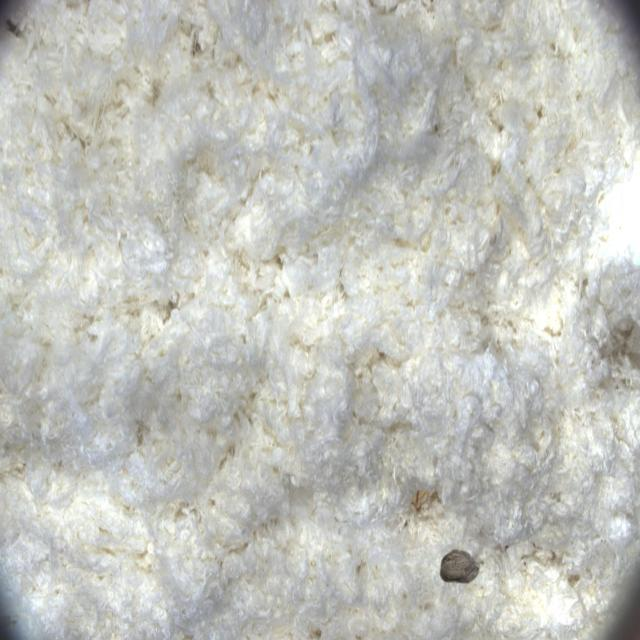dust: (420, 493, 512, 621)
